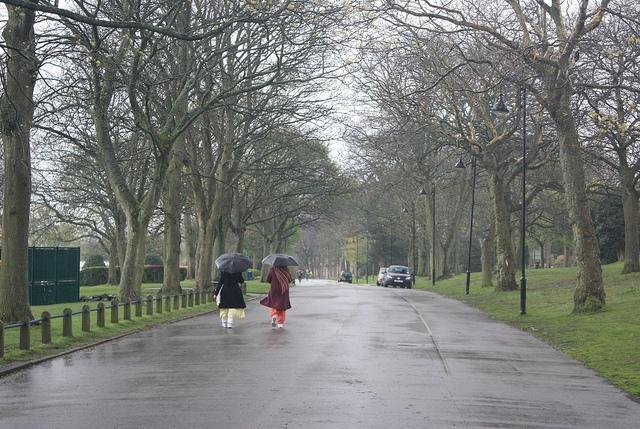car: (382, 266, 412, 288), (378, 267, 388, 284), (340, 271, 352, 283)
